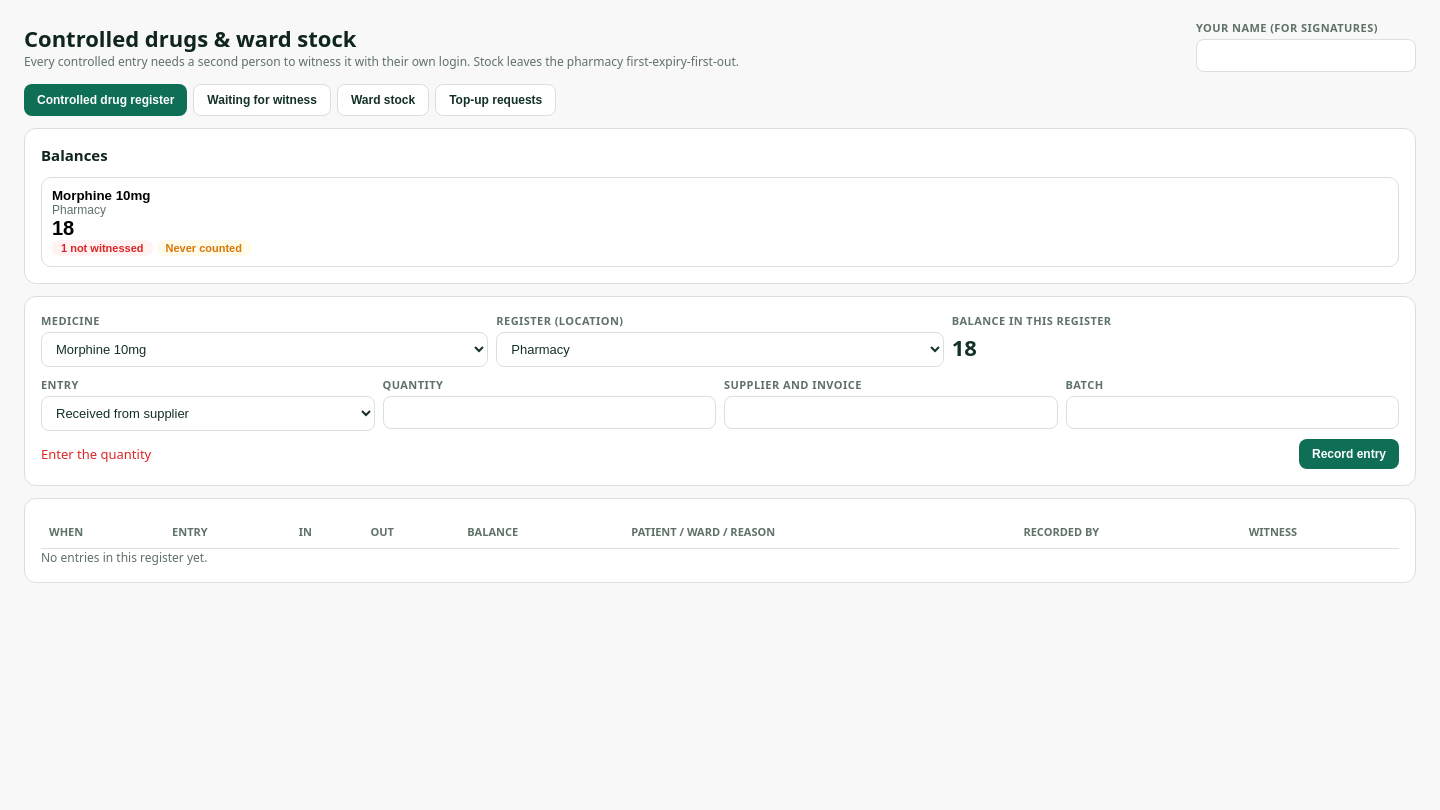
controlled drugs and ward stock › shows balances, previews the new balance and records a receipt
Later steps or results of the test are not shown.
Check: the text "1 not witnessed" is shown, box [52,240,152,256]
Check: the text "Never counted" is shown, box [156,240,251,256]
Type "5" into the number field labelled "Quantity" at (549, 412), box [382,396,716,429]
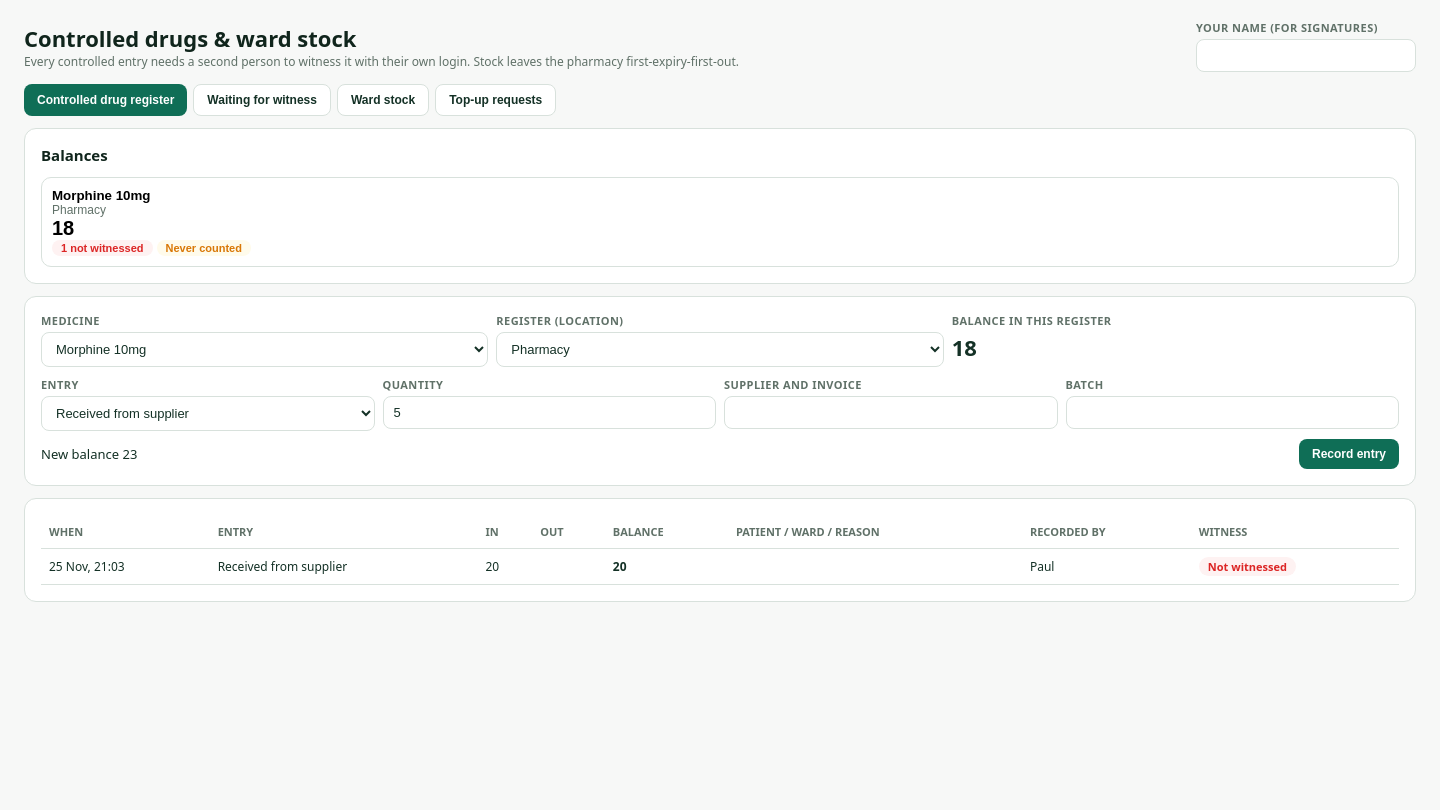
Check: the text "New balance 23" is shown, box [41,445,137,463]
